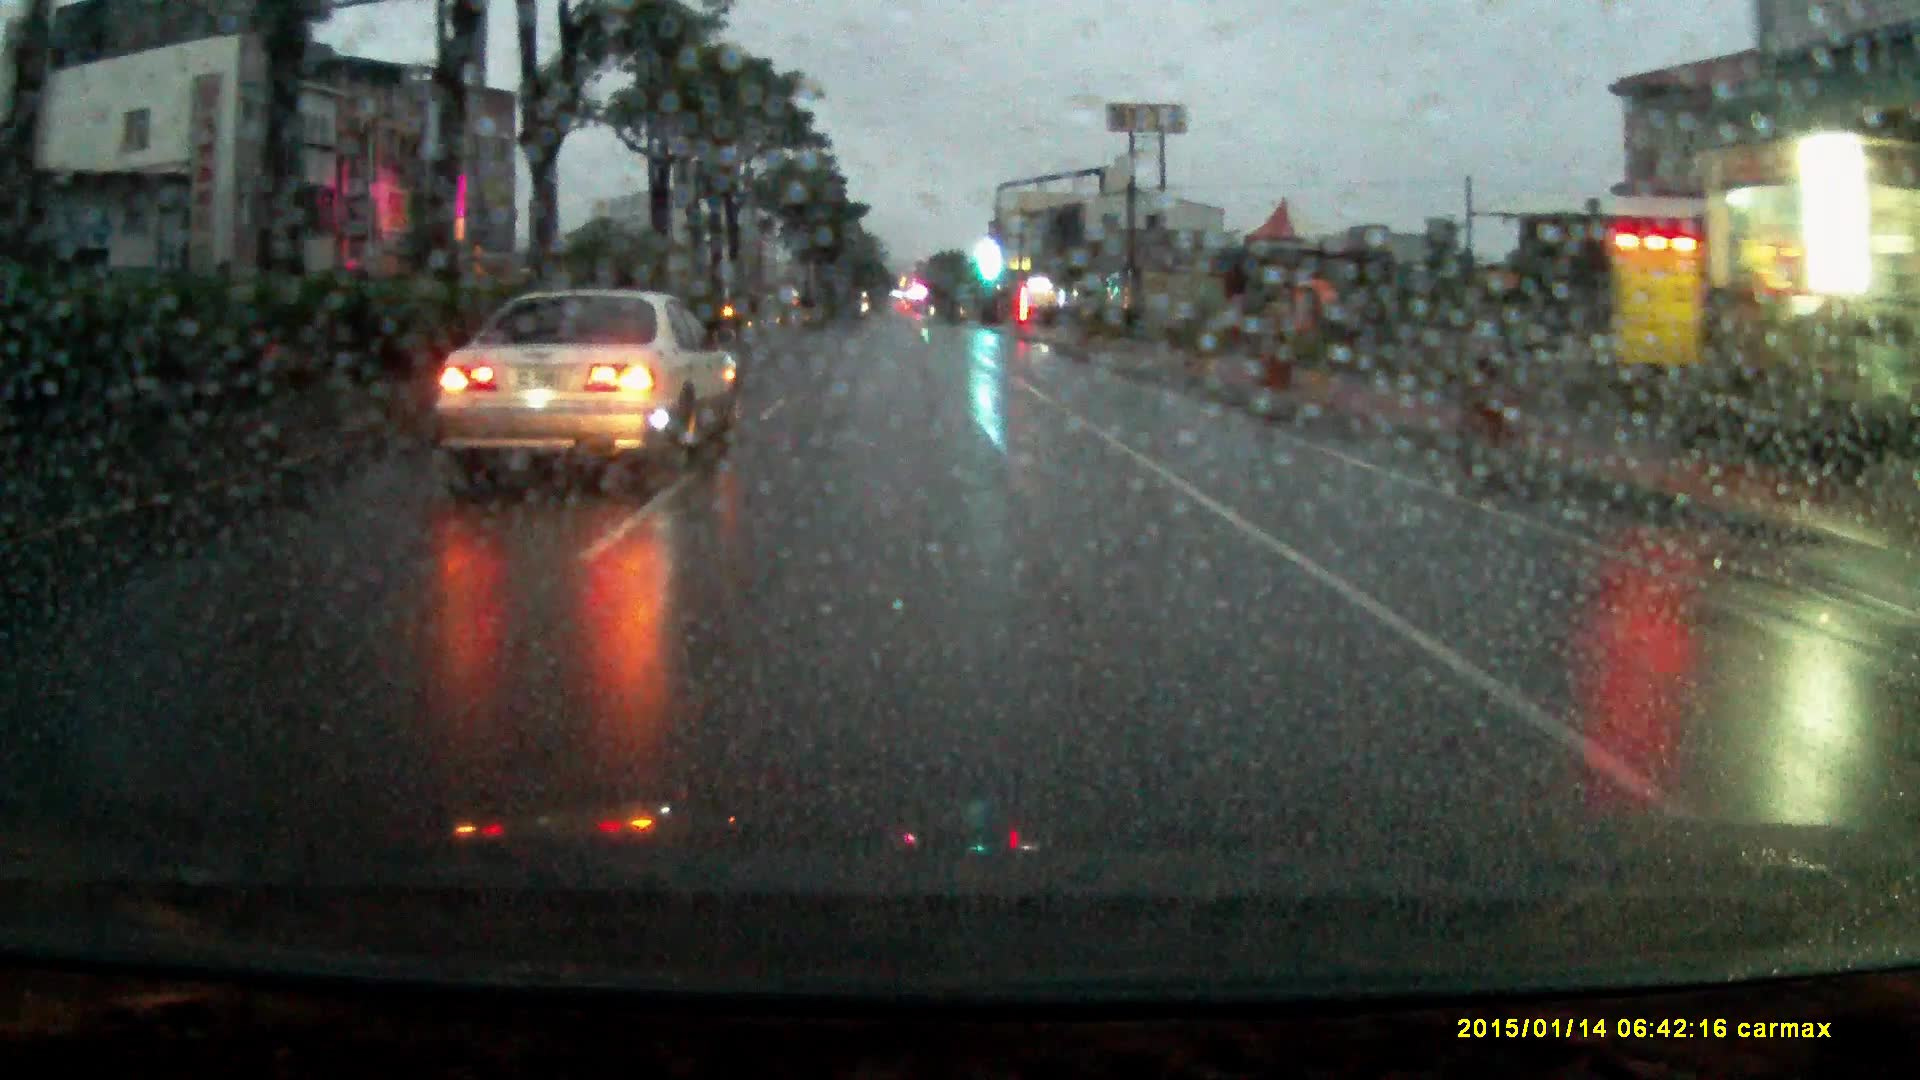vehicle: (439, 287, 754, 495)
